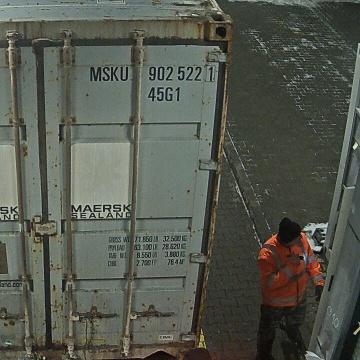serial_id: (90, 66, 213, 81)
